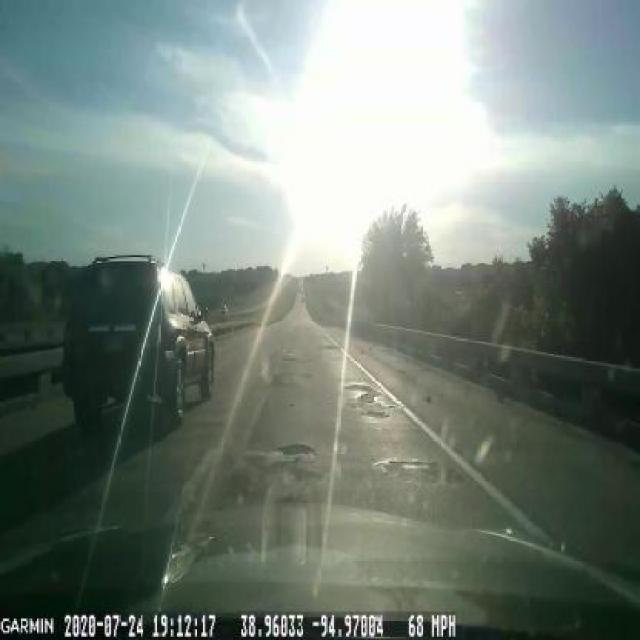Pothole: (374, 444, 454, 488), (343, 374, 392, 426), (268, 434, 320, 458)
